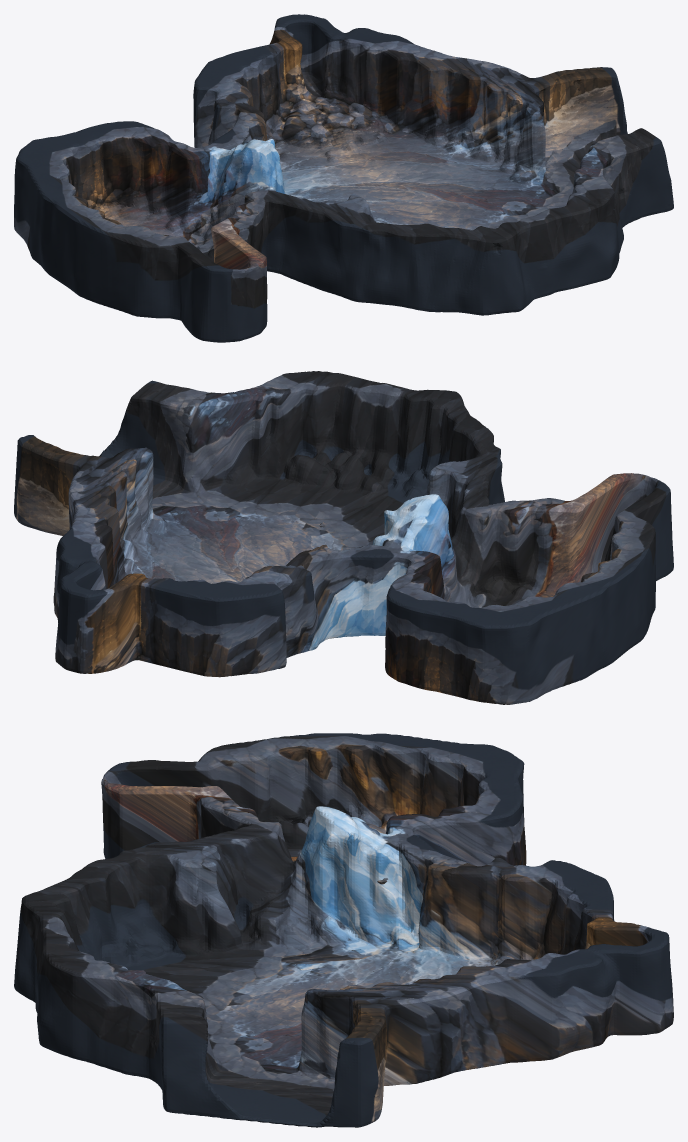
Rendered from ice-and-lava-passage-color-v1.glb.
The picture shows the model from 3 angles, top to bottom: view 1: azimuth 30°, elevation 25°; view 2: azimuth 150°, elevation 25°; view 3: azimuth 270°, elevation 25°; orthographic projection. The views are drawn at different scales.
Visible parts, largest first — view 1: geometry_0; view 2: geometry_0; view 3: geometry_0.
Boxes of the visible parts, x1,y1,x2,y2 form: geometry_0: (14,14,673,342); geometry_0: (14,371,673,704); geometry_0: (14,733,673,1127).
Bounding box in the file's own units: 1.98 × 0.3339 × 1.76.
1 material, 1 textured.
